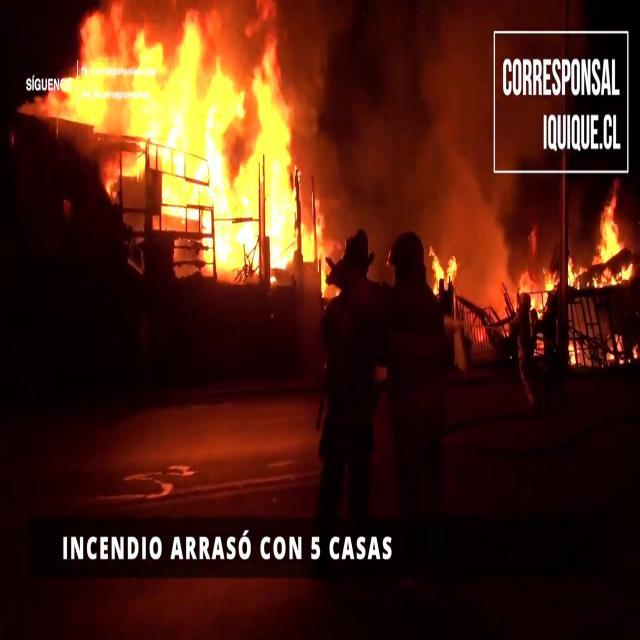Fire: (53, 1, 333, 283), (592, 193, 636, 285), (519, 262, 558, 322), (428, 241, 459, 301)
Smoke: (292, 0, 520, 252)
